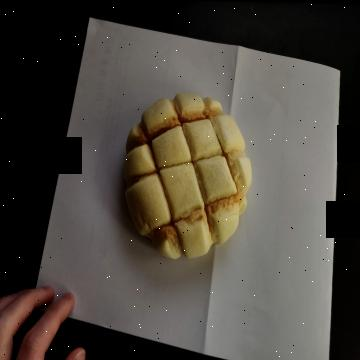melon_bread: (121, 92, 253, 261)
